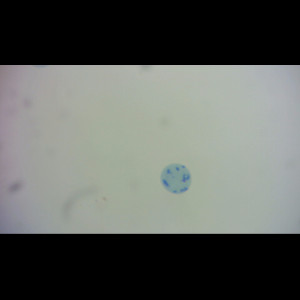aggregate reticulocyte: (159, 162, 193, 194)
